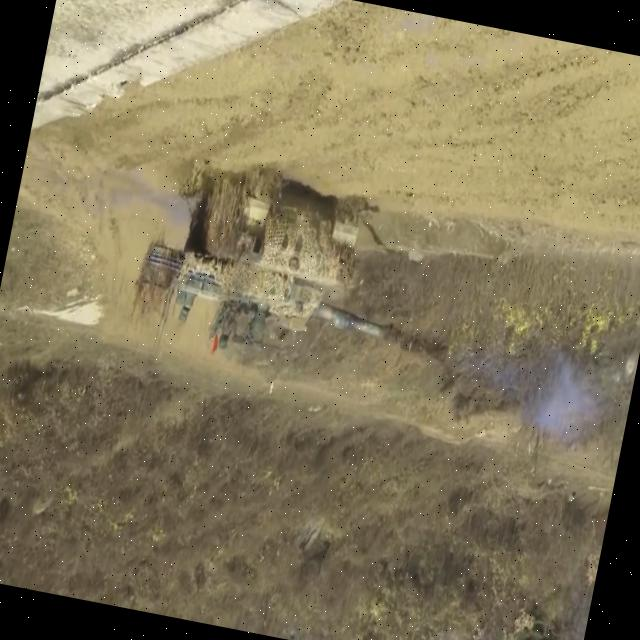korea tank: (125, 148, 478, 399)
